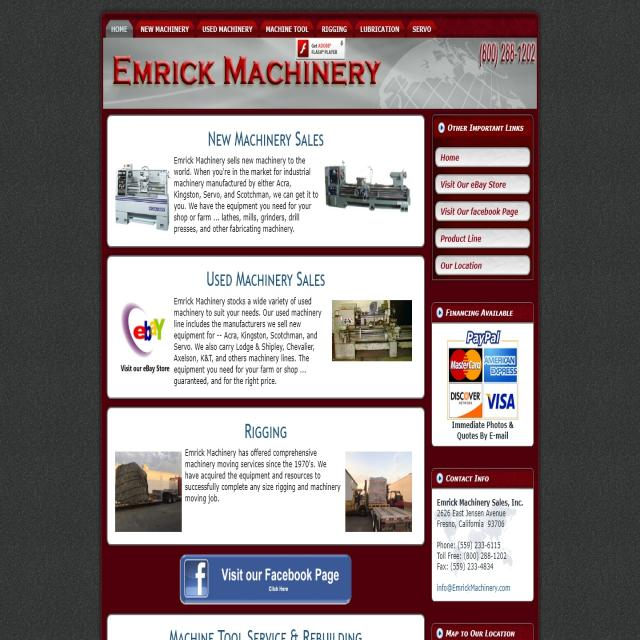button: (180, 550, 352, 606), (436, 226, 531, 250), (436, 172, 530, 195), (437, 148, 529, 169), (436, 256, 530, 275), (436, 203, 528, 222), (136, 18, 194, 37), (198, 20, 258, 36), (260, 20, 314, 36), (354, 20, 403, 35), (317, 19, 351, 35), (106, 17, 133, 36), (407, 21, 436, 33)
heading: (111, 52, 378, 91), (205, 269, 327, 292), (207, 129, 327, 151), (166, 627, 366, 640), (447, 120, 527, 136), (443, 624, 522, 640), (442, 306, 519, 321), (242, 418, 288, 442), (444, 471, 497, 488)
iframe: (297, 36, 346, 60)
image: (103, 36, 537, 111), (379, 40, 528, 110), (446, 338, 519, 422), (329, 296, 415, 366), (114, 448, 183, 535), (344, 448, 412, 536), (321, 162, 418, 218), (112, 152, 172, 238), (113, 294, 170, 380)
link: (436, 580, 516, 594)
text: (172, 294, 324, 392), (173, 152, 320, 237), (184, 447, 342, 509), (436, 499, 525, 532), (435, 540, 514, 576), (477, 38, 537, 74), (449, 422, 518, 444)
